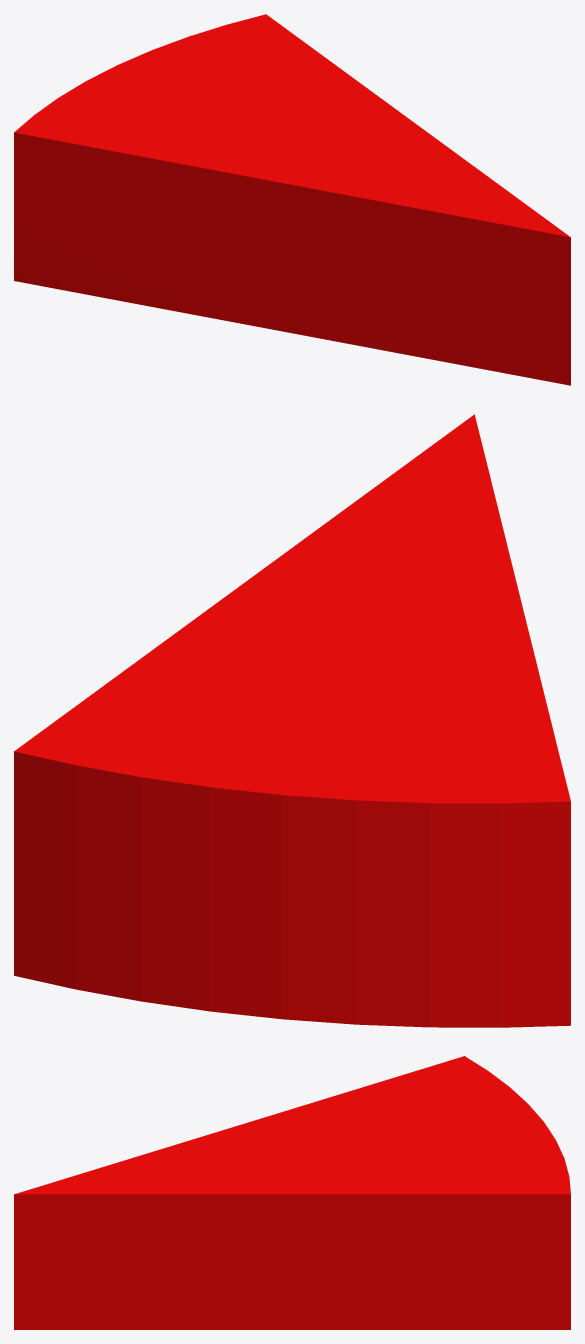
The model's file is platformded.glb.
3 renders of one model, top to bottom at view 1: azimuth 30°, elevation 25°; view 2: azimuth 150°, elevation 25°; view 3: azimuth 270°, elevation 25°, orthographic. The views are drawn at different scales.
Parts seen in each view (by area): view 1: Коло.004; view 2: Коло.004; view 3: Коло.004.
Boxes of the visible parts, x1,y1,x2,y2 form: Коло.004: (14, 14, 570, 385); Коло.004: (14, 414, 570, 1027); Коло.004: (14, 1056, 570, 1329).
Bounding box in the file's own units: 0.569 × 0.26 × 0.968.
Materials: 1 (1 with a texture image).
